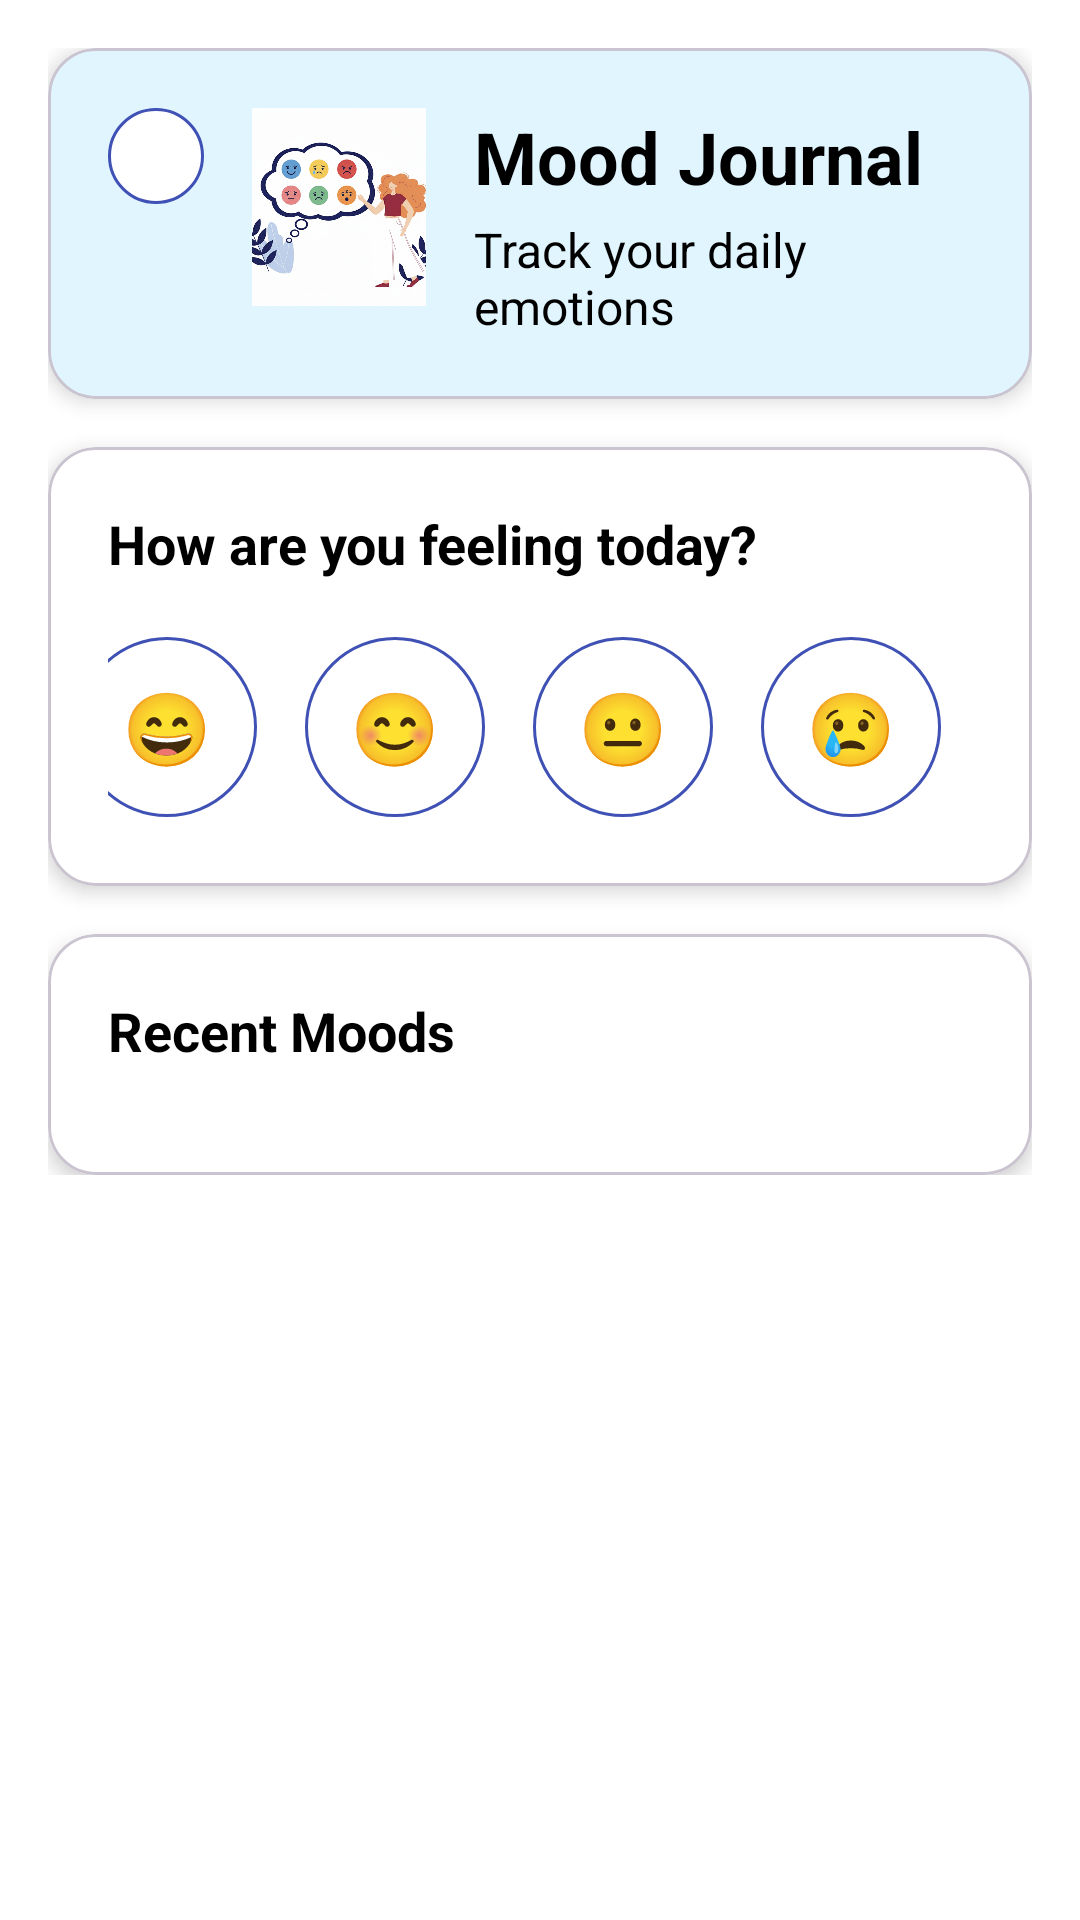

Screen size 1080*1920. Icon name, then its box in pixels as box(x1, y1, x2, y2):
moods: box(252, 108, 426, 306)
